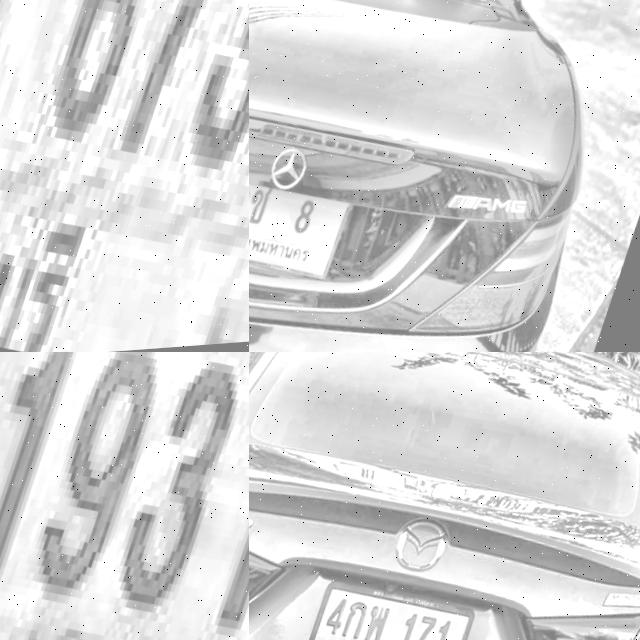license-plate: (0, 0, 249, 352), (0, 352, 249, 640), (249, 157, 368, 303), (296, 568, 487, 640)
